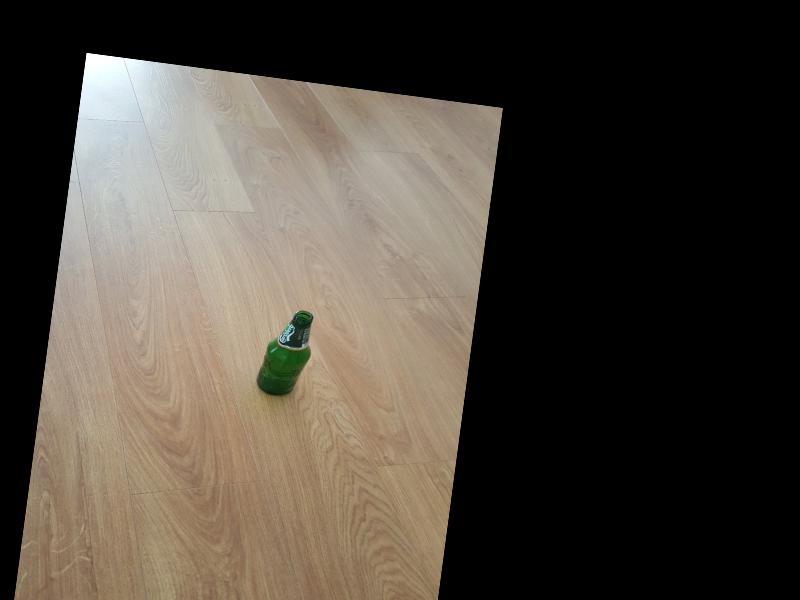Beer: (254, 304, 316, 399)
